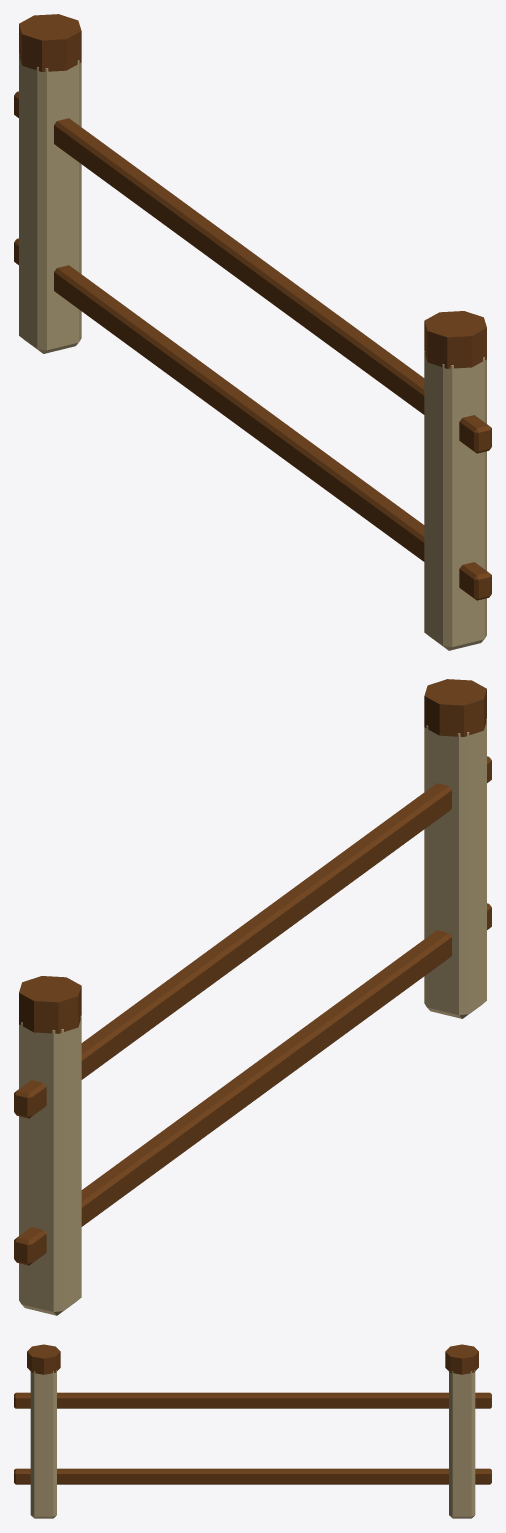
The model's file is rail-section.glb.
3 renders of one model, top to bottom at view 1: azimuth 30°, elevation 25°; view 2: azimuth 150°, elevation 25°; view 3: azimuth 270°, elevation 25°, orthographic. The views are drawn at different scales.
Parts seen in each view (by area): view 1: rail-section; view 2: rail-section; view 3: rail-section.
Part boxes in pixels (x1,y1,x2,y2): rail-section: (14,14,491,650); rail-section: (14,679,491,1315); rail-section: (14,1344,491,1518).
Size of the model in its own units: 0.28 by 1.5 by 4.
1 material, 1 textured.
